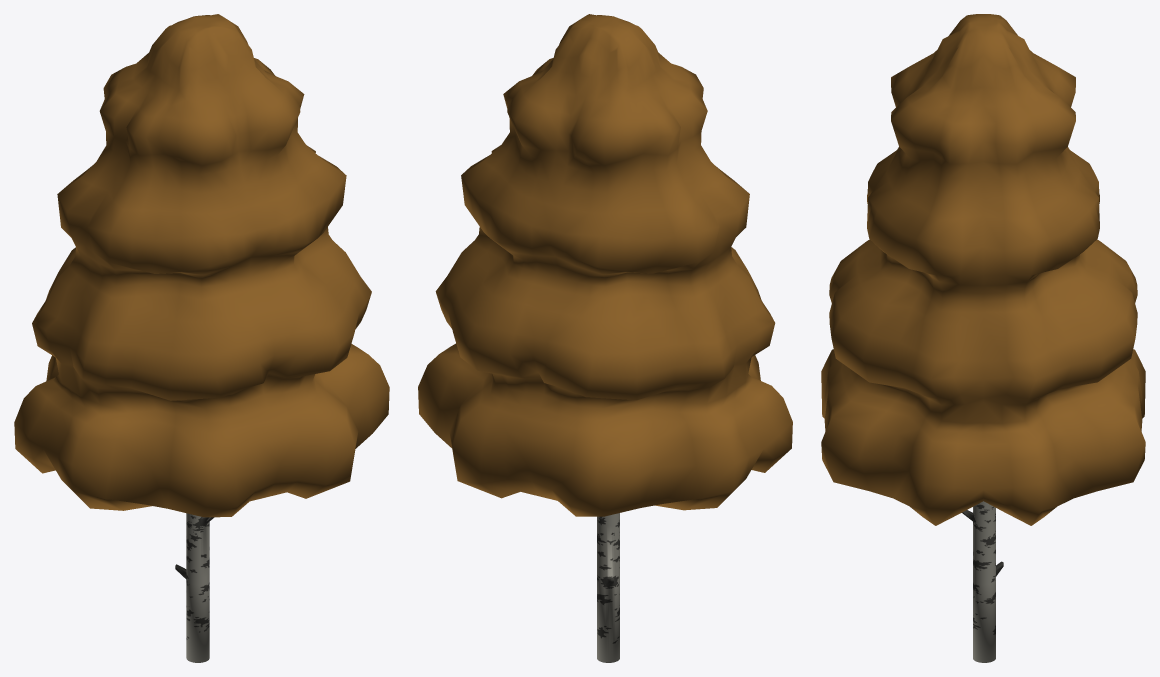
The model's file is puu04.fbx.
3 views of the same model, side by side, from view 1: azimuth 30°, elevation 25°; view 2: azimuth 150°, elevation 25°; view 3: azimuth 270°, elevation 25° (orthographic).
Visible parts, largest first — view 1: puu_02, puu runko1.002; view 2: puu_02, puu runko1.002; view 3: puu_02, puu runko1.002.
Boxes of the visible parts, left/top/right/bottom form: puu_02: left=14, top=14, right=389, bottom=517; puu runko1.002: left=175, top=513, right=214, bottom=662; puu_02: left=418, top=14, right=792, bottom=516; puu runko1.002: left=597, top=513, right=619, bottom=662; puu_02: left=821, top=14, right=1145, bottom=525; puu runko1.002: left=962, top=501, right=1003, bottom=662.
Size of the model in its own units: 1299 by 2481 by 1147.
Materials: 2 (1 with a texture image).
